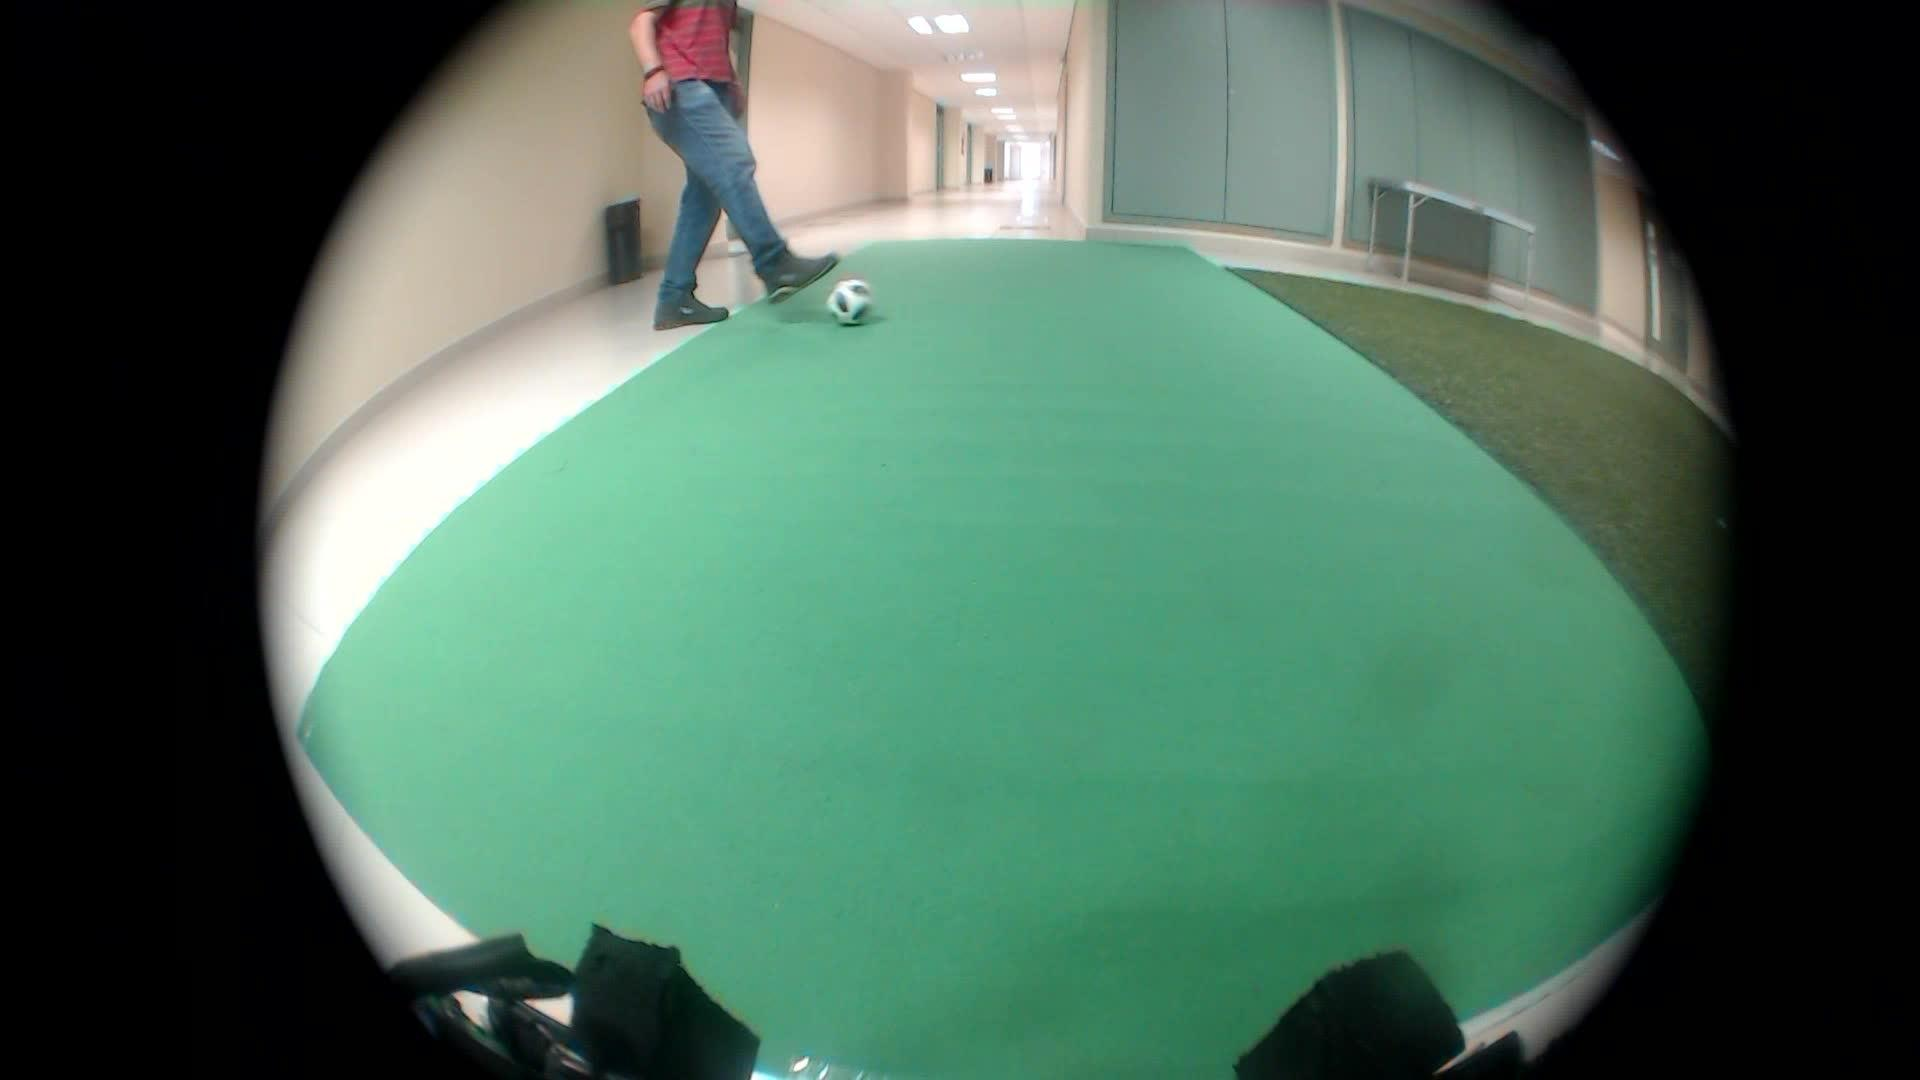ball: (822, 272, 884, 334)
